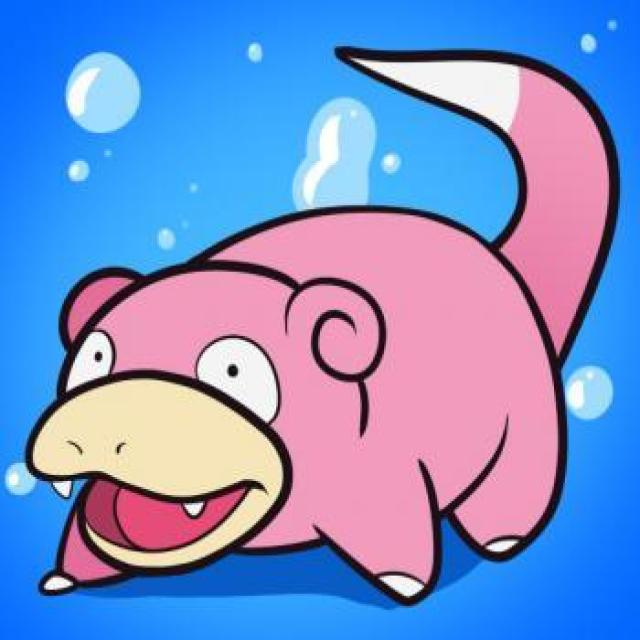Slowpoke: (41, 185, 605, 605)
